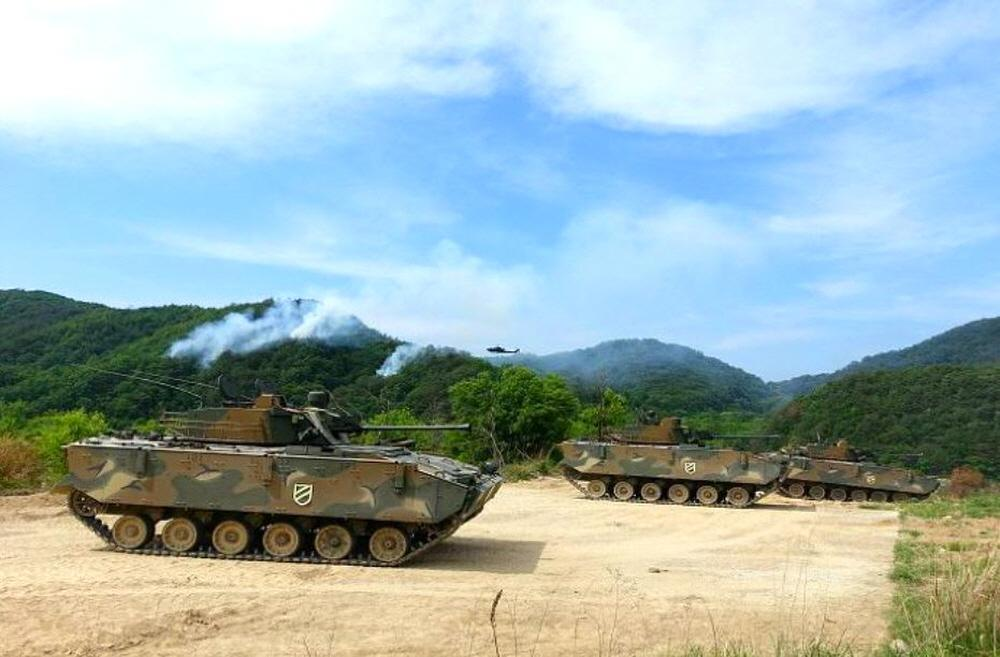MIL_IFV: (56, 382, 502, 571), (552, 415, 791, 513), (774, 434, 940, 506)
